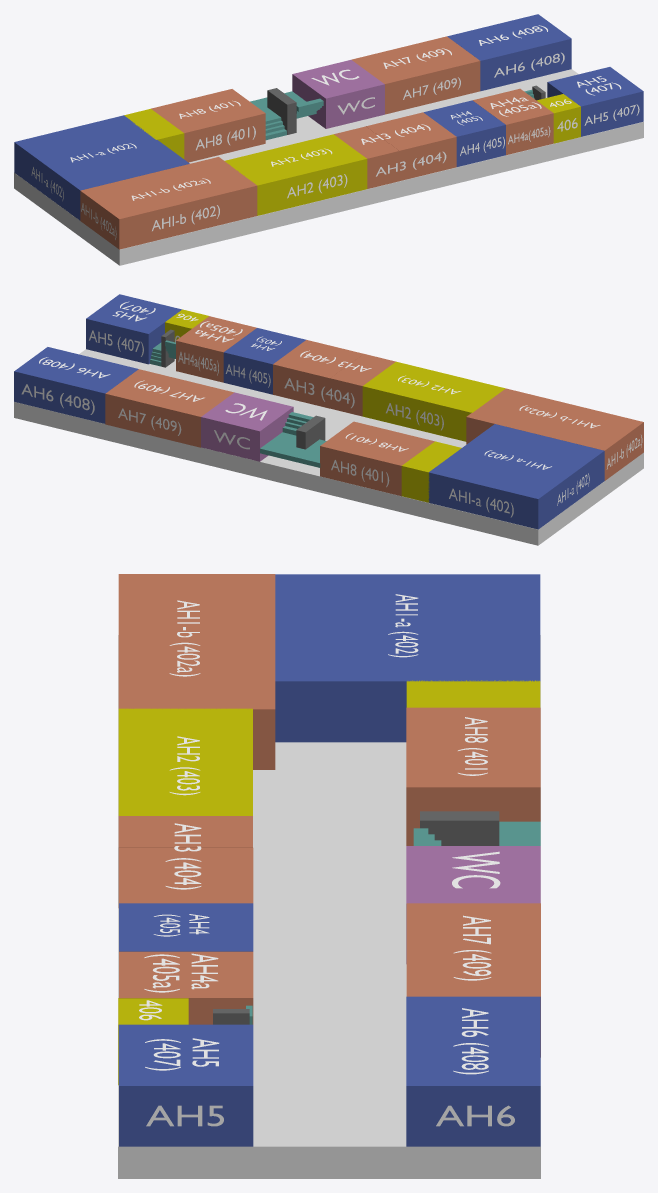
The model's file is NastavniBlokUcionice5.glb.
The picture shows the model from 3 angles, top to bottom: view 1: azimuth 30°, elevation 25°; view 2: azimuth 150°, elevation 25°; view 3: azimuth 270°, elevation 25°; orthographic projection. The views are drawn at different scales.
Parts seen in each view (by area): view 1: Cube, 015, 013.002, 017, SS.001, ?.004, 015.001, WC, ?.002, ?, SS, ?.001 (+4 smaller); view 2: Cube, 013.002, 015, 017, SS.001, ?.004, 015.001, ?.002, WC, ?, SS, ?.001 (+9 smaller); view 3: Cube, 013.002, 015, ?.004, ?.002, 015.001, 017, SS.001, WC, ?, ?.001, SS (+8 smaller).
Part boxes in pixels (x1,y1,x2,y2): Cube: [14, 69, 643, 265]; 015: [80, 157, 257, 249]; 013.002: [14, 115, 189, 220]; 017: [224, 134, 367, 215]; SS.001: [351, 36, 480, 114]; ?.004: [447, 14, 571, 91]; 015.001: [151, 89, 265, 162]; WC: [292, 60, 384, 128]; ?.002: [547, 67, 643, 136]; ?: [366, 112, 456, 181]; SS: [423, 100, 505, 166]; ?.001: [473, 88, 553, 155]; Cube: [14, 349, 643, 545]; 013.002: [428, 424, 604, 529]; 015: [466, 388, 643, 480]; 017: [362, 361, 505, 441]; SS.001: [105, 369, 234, 447]; ?.004: [14, 347, 138, 423]; 015.001: [320, 421, 434, 496]; ?.002: [86, 294, 181, 364]; WC: [201, 392, 293, 461]; ?: [273, 340, 363, 408]; SS: [223, 328, 305, 394]; ?.001: [176, 316, 256, 382]; Cube: [118, 635, 540, 1178]; 013.002: [275, 574, 540, 742]; 015: [118, 574, 275, 769]; ?.004: [406, 996, 540, 1146]; ?.002: [119, 1024, 253, 1146]; 015.001: [406, 707, 540, 845]; 017: [118, 708, 252, 815]; SS.001: [406, 903, 540, 1057]; WC: [406, 846, 540, 963]; ?: [119, 847, 253, 903]; ?.001: [119, 951, 253, 1024]; SS: [119, 903, 253, 951].
Bounding box in the file's own units: 36.83 × 3.19 × 12.9.
